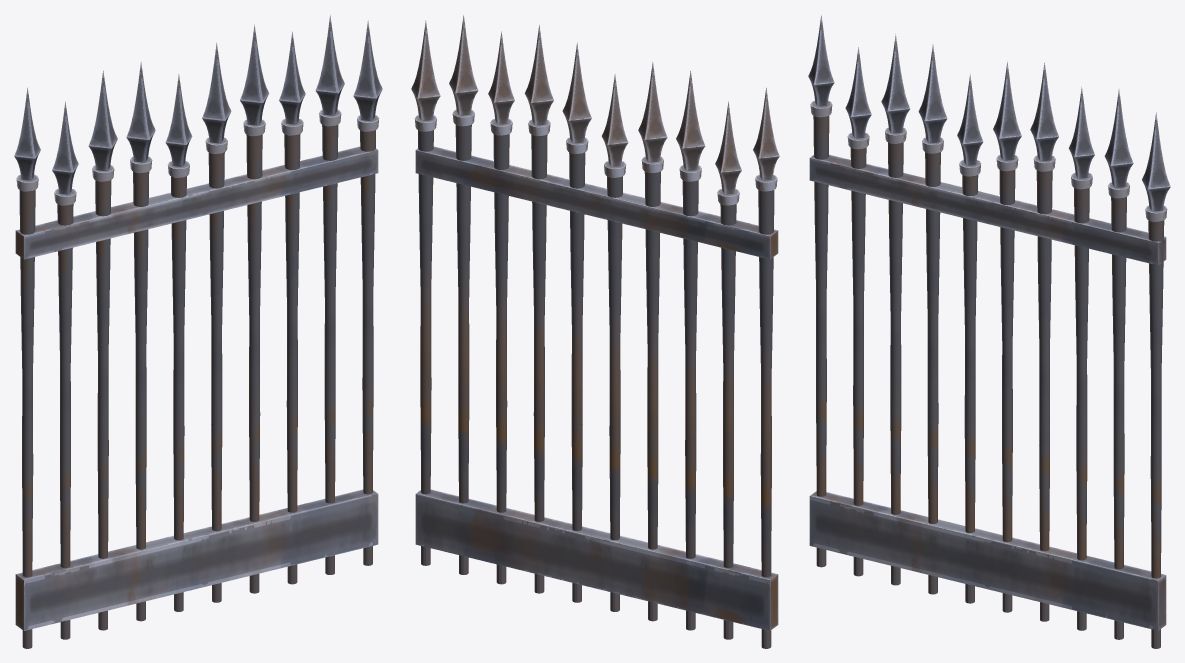
The model's file is Prop_MetalFence_Simple.gltf.
3 views of the same model, side by side, from view 1: azimuth 30°, elevation 25°; view 2: azimuth 150°, elevation 25°; view 3: azimuth 330°, elevation 25° (orthographic).
Parts seen in each view (by area): view 1: Prop_MetalFence_Simple; view 2: Prop_MetalFence_Simple; view 3: Prop_MetalFence_Simple.
Boxes of the visible parts, x1,y1,x2,y2 form: Prop_MetalFence_Simple: (14, 15, 382, 648); Prop_MetalFence_Simple: (411, 15, 779, 648); Prop_MetalFence_Simple: (808, 15, 1170, 648).
Bounding box in the file's own units: 1.95 × 2.87 × 0.1561.
1 material, 1 textured.
